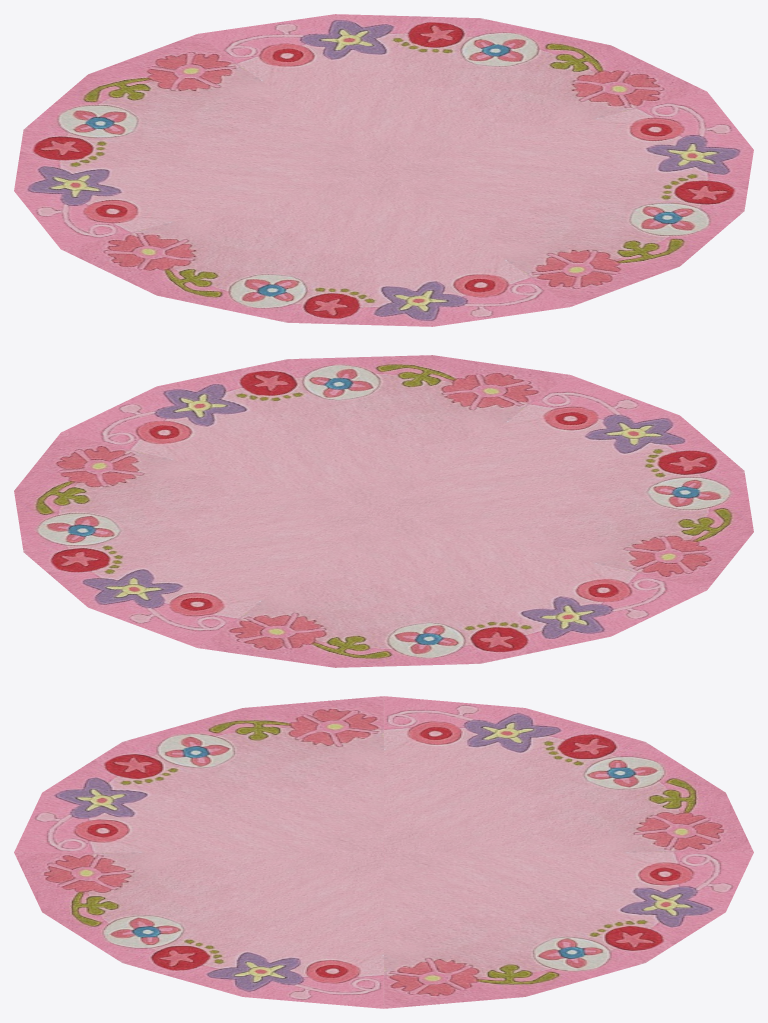
The model's file is Teppich_01_TL.FBX.
The picture shows the model from 3 angles, top to bottom: view 1: azimuth 30°, elevation 25°; view 2: azimuth 150°, elevation 25°; view 3: azimuth 270°, elevation 25°; orthographic projection.
Visible parts, largest first — view 1: Teppich; view 2: Teppich; view 3: Teppich.
Boxes of the visible parts, x1,y1,x2,y2 form: Teppich: (14,14,753,326); Teppich: (14,355,753,667); Teppich: (14,696,753,1008).
Size of the model in its own units: 60 by 3.66e-15 by 60.
